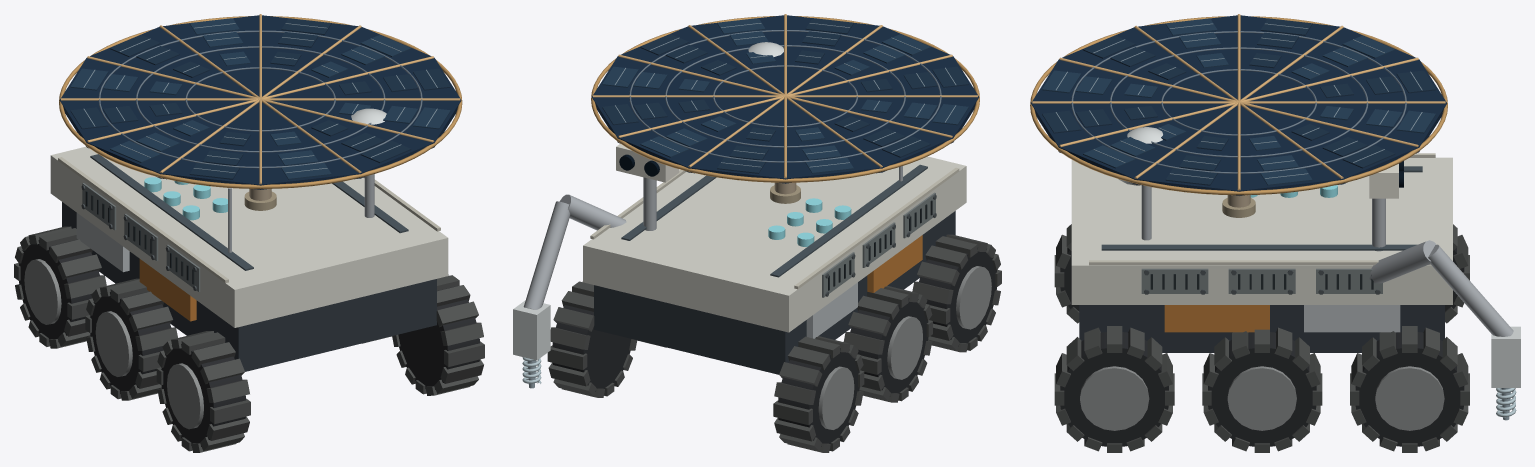
The model's file is nx1-exterior.glb.
3 renders of one model, left to right at view 1: azimuth 30°, elevation 25°; view 2: azimuth 150°, elevation 25°; view 3: azimuth 270°, elevation 25°, orthographic. The views are drawn at different scales.
Parts seen in each view (by area): view 1: RoundedBox (×4), solar, wheels, object 82, object 50, lab, antenna, object 30, object 40, object 20, object 83, object 106 (+20 smaller); view 2: RoundedBox (×6), solar, wheels, drill, object 82, lab, object 50, object 83, object 14, object 30, object 20, object 40 (+12 smaller); view 3: RoundedBox (×6), solar, wheels, drill, object 83, object 81, object 71, object 61, object 51, antenna, object 14, object 88 (+23 smaller).
Boxes of the visible parts, <box> form: RoundedBox (×4): <box>50,146,448,371</box>; solar: <box>59,14,462,200</box>; wheels: <box>14,226,484,452</box>; object 82: <box>90,154,253,270</box>; object 50: <box>58,157,228,283</box>; lab: <box>144,177,227,220</box>; antenna: <box>228,108,386,252</box>; object 30: <box>124,214,158,260</box>; object 40: <box>166,244,200,291</box>; object 20: <box>82,183,116,230</box>; object 83: <box>332,181,408,233</box>; object 106: <box>281,163,331,179</box>; RoundedBox (×6): <box>513,143,966,374</box>; solar: <box>591,14,979,194</box>; wheels: <box>547,234,1001,452</box>; drill: <box>522,194,626,388</box>; object 82: <box>770,164,927,277</box>; lab: <box>768,198,851,246</box>; object 50: <box>794,167,959,289</box>; object 83: <box>621,175,716,240</box>; object 14: <box>643,177,656,230</box>; object 30: <box>862,222,895,267</box>; object 20: <box>822,252,854,297</box>; object 40: <box>903,192,935,238</box>; RoundedBox (×6): <box>1071,157,1520,387</box>; solar: <box>1030,14,1447,207</box>; wheels: <box>1054,224,1469,452</box>; drill: <box>1369,240,1516,420</box>; object 83: <box>1101,244,1417,250</box>; object 81: <box>1089,260,1430,265</box>; object 71: <box>1141,268,1208,293</box>; object 61: <box>1228,268,1295,293</box>; object 51: <box>1316,268,1382,293</box>; antenna: <box>1118,127,1162,240</box>; object 14: <box>1372,198,1385,251</box>; object 88: <box>1165,168,1217,185</box>.
Size of the model in its own units: 3.26 by 2.47 by 3.82.
